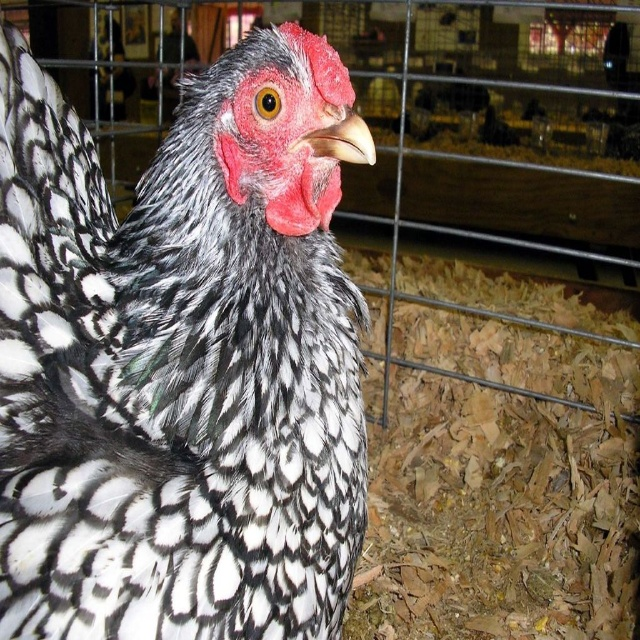Chicken: (0, 21, 377, 640)
